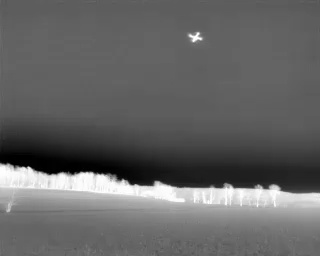DRONE: (184, 28, 208, 48)
